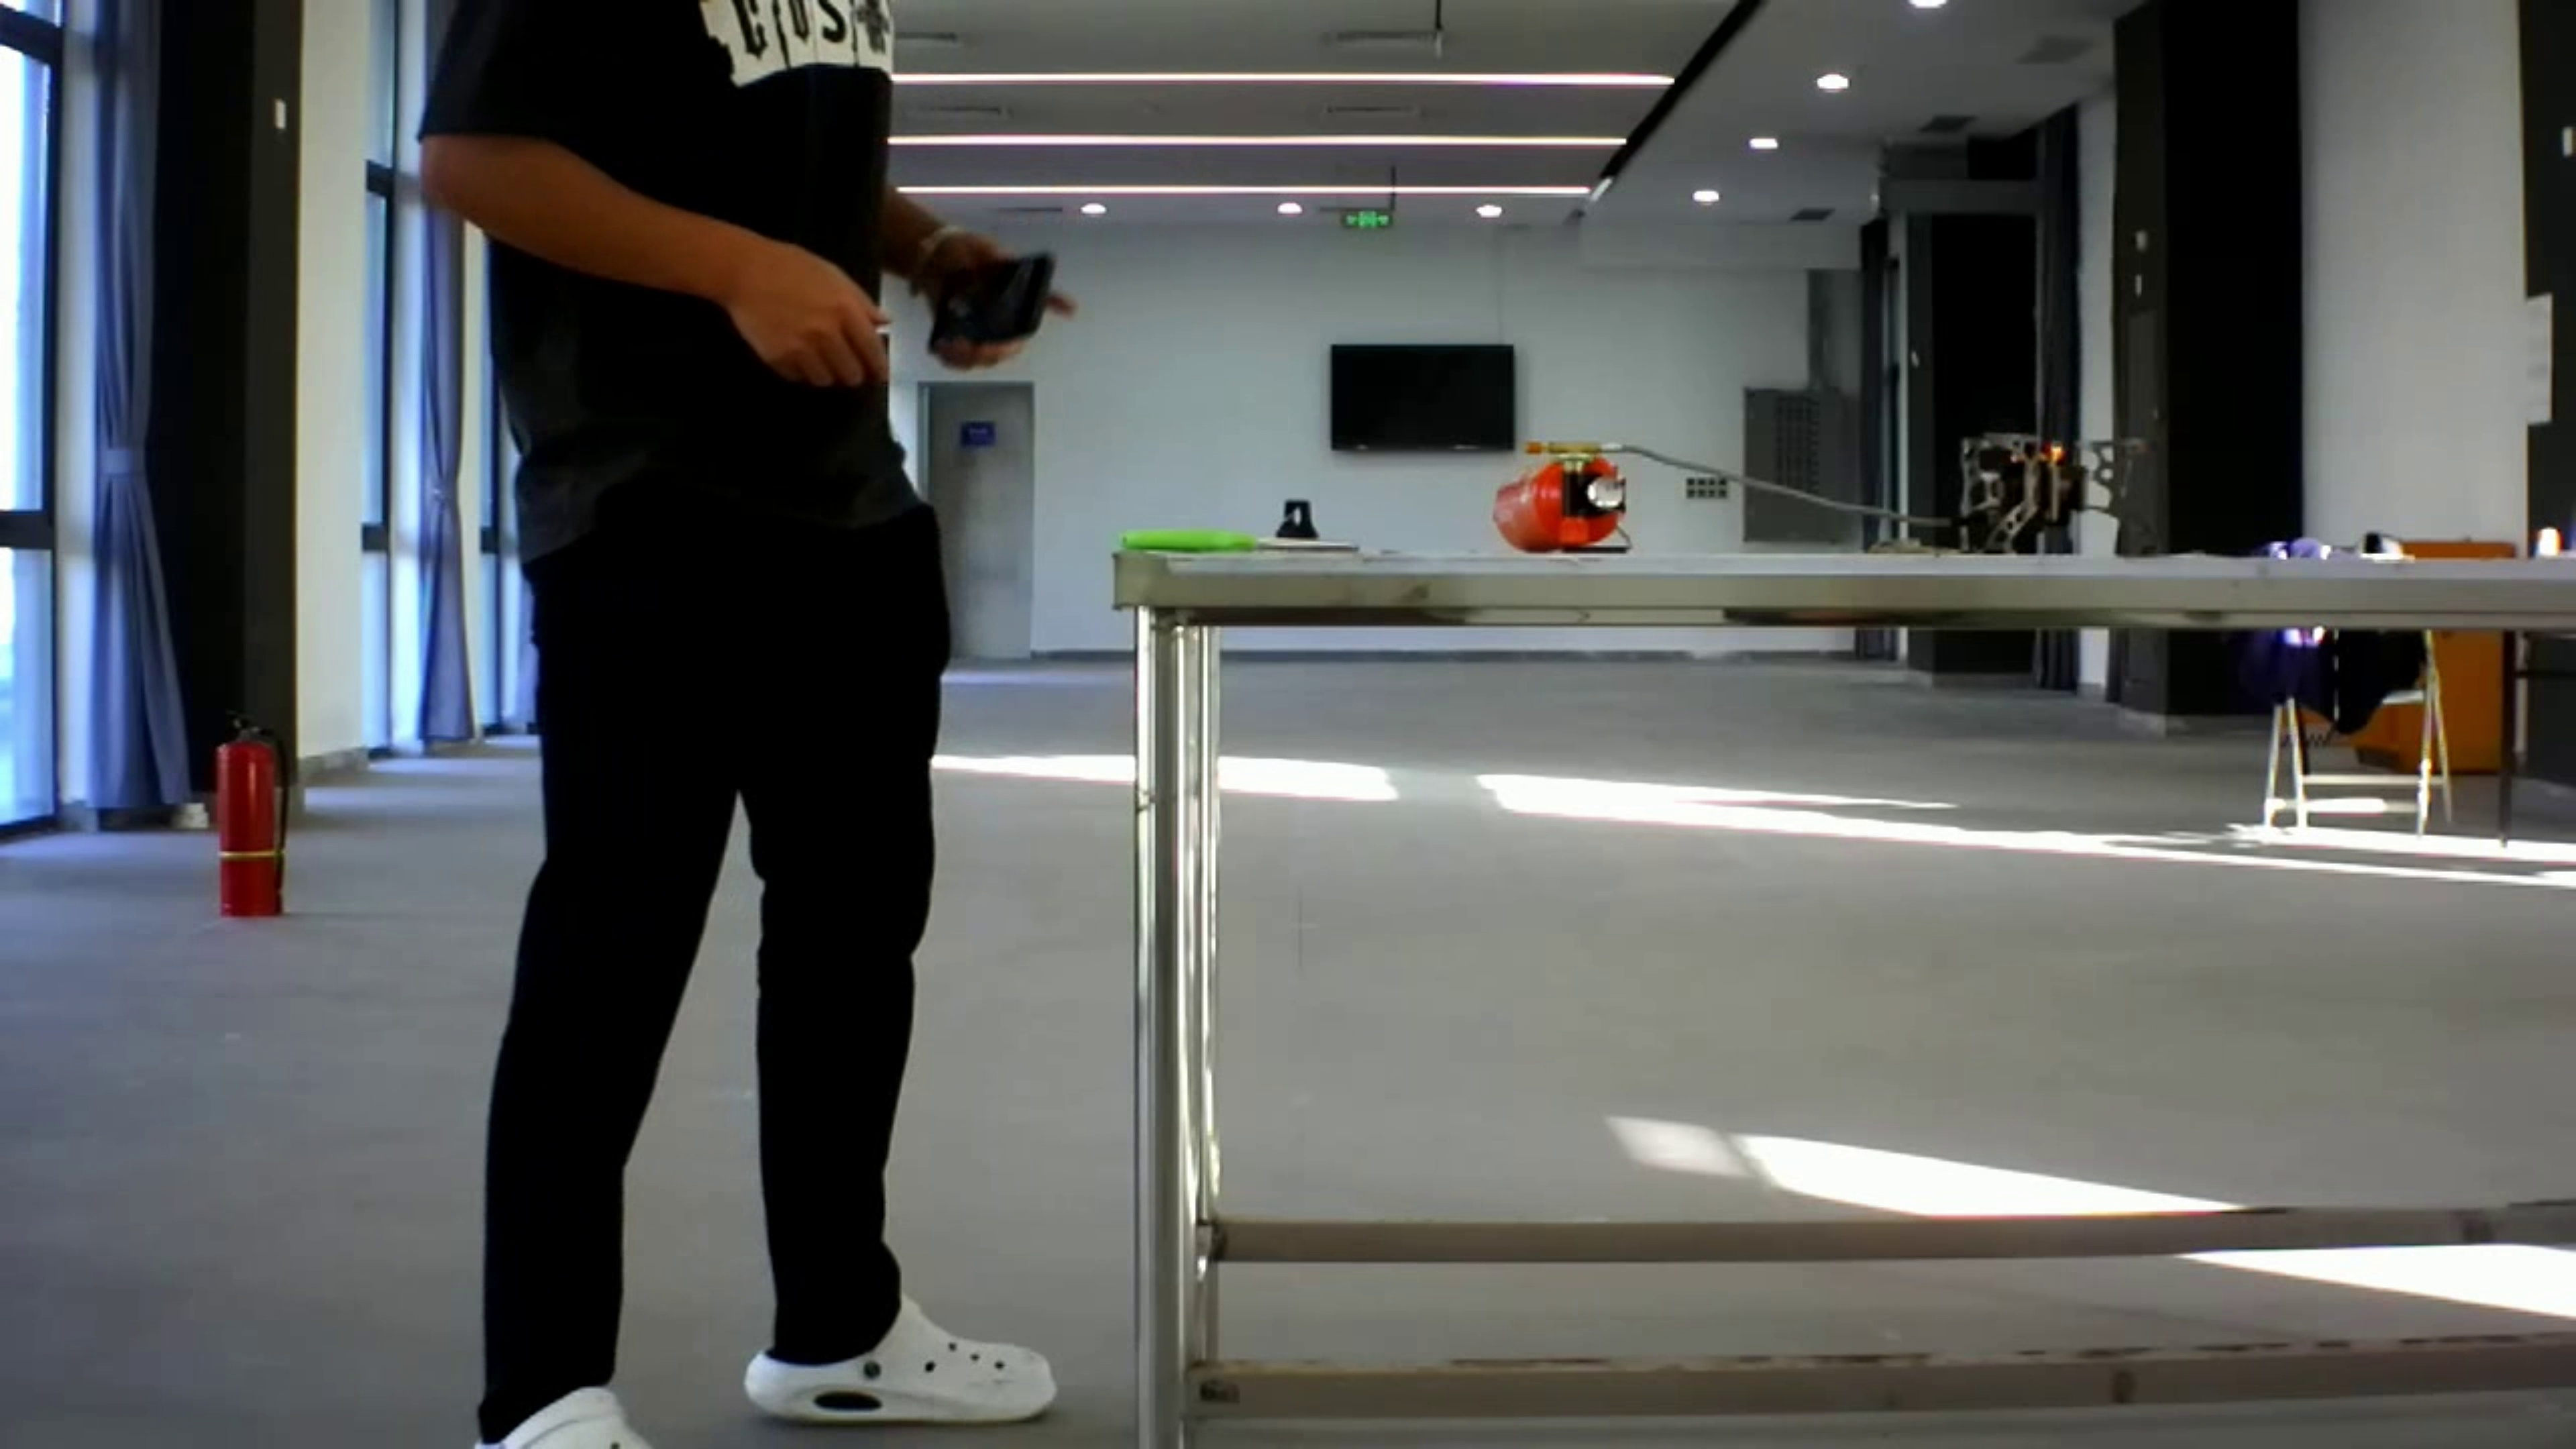Fire: (1976, 405, 2089, 490)
